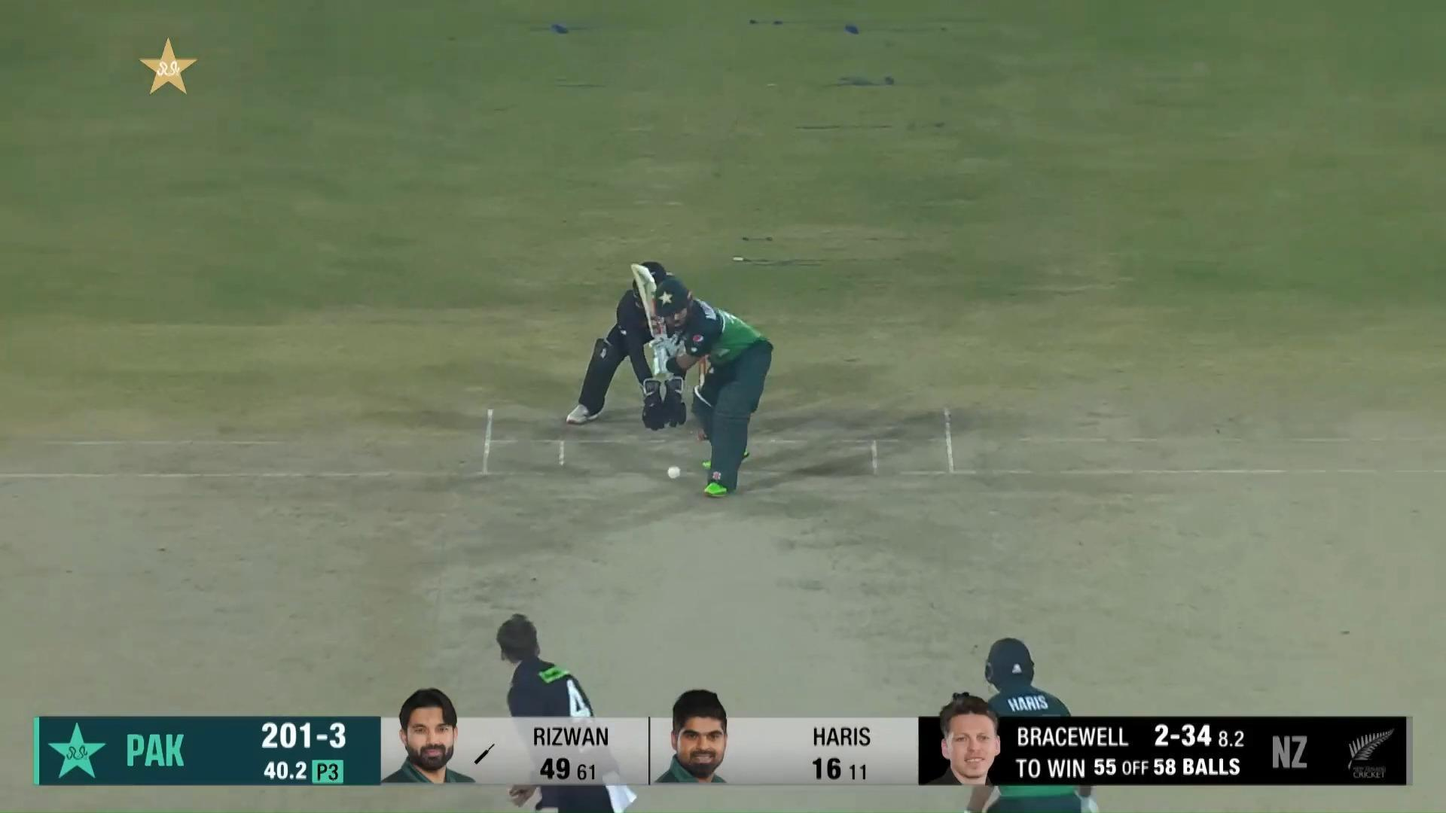BM 1: (630, 263, 774, 498)
BO: (497, 612, 637, 813)
